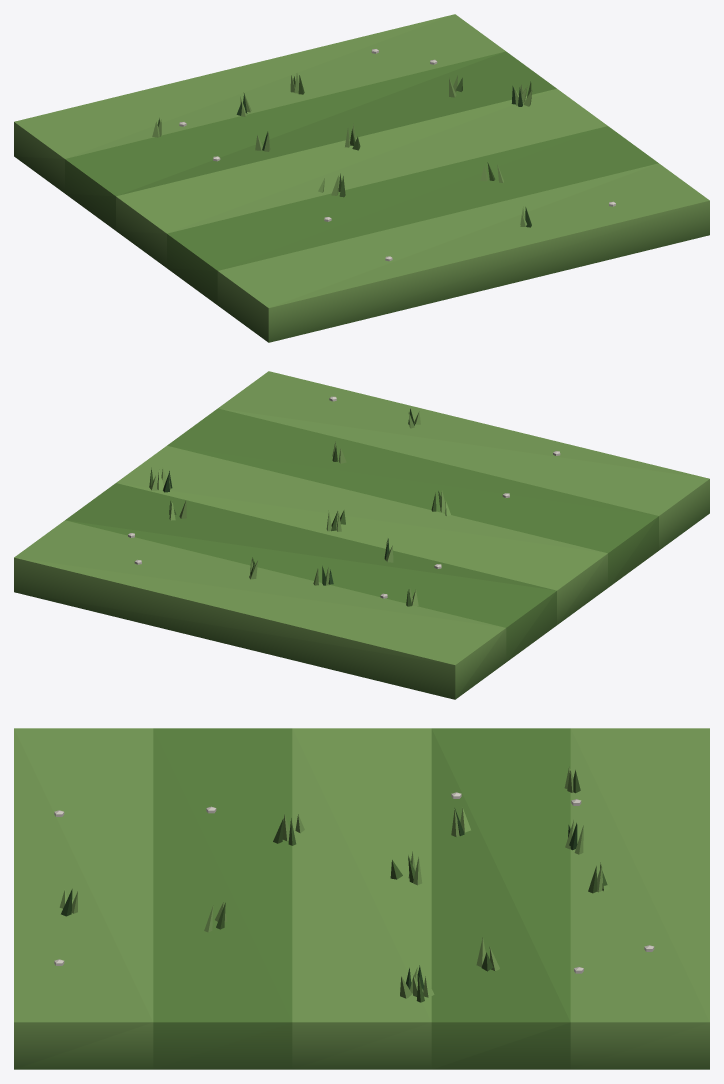
The model's file is park-lawn-tile.glb.
3 views of the same model, one above another, from view 1: azimuth 30°, elevation 25°; view 2: azimuth 150°, elevation 25°; view 3: azimuth 270°, elevation 25° (orthographic). The views are drawn at different scales.
Visible parts, largest first — view 1: park_lawn_tile; view 2: park_lawn_tile; view 3: park_lawn_tile.
Boxes of the visible parts, x1,y1,x2,y2 form: park_lawn_tile: (14, 14, 709, 342); park_lawn_tile: (14, 371, 709, 699); park_lawn_tile: (14, 728, 709, 1069).
Size of the model in its own units: 4 by 0.4759 by 4.
